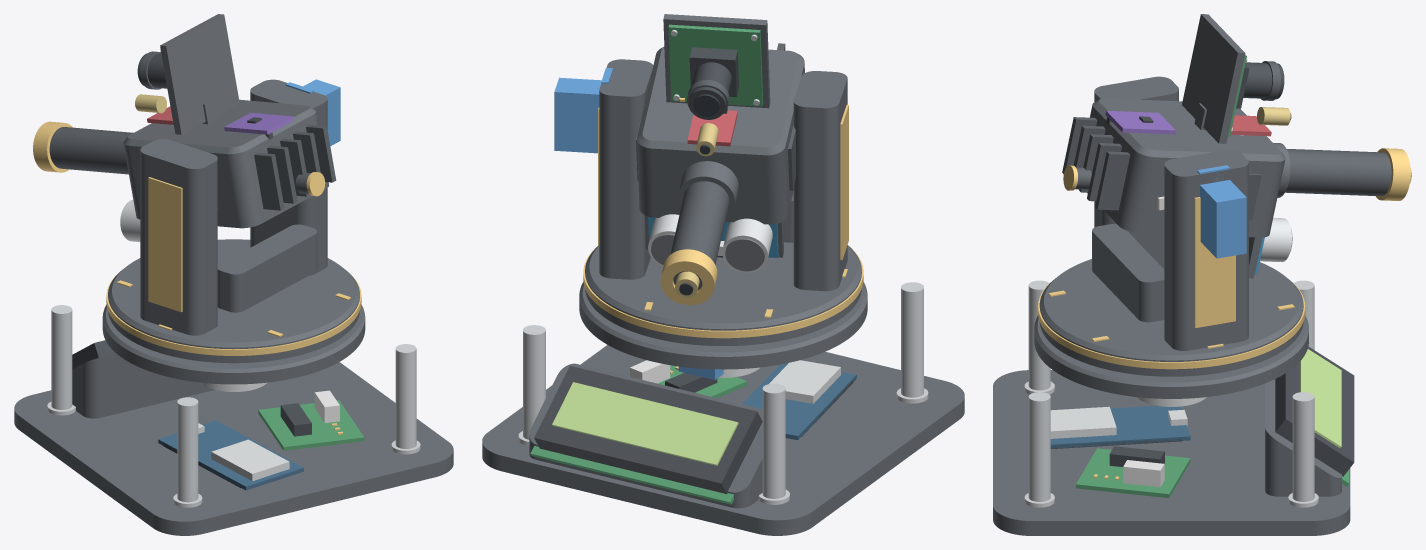
Rendered from torreta_v2.glb.
3 renders of one model, left to right at view 1: azimuth 30°, elevation 25°; view 2: azimuth 150°, elevation 25°; view 3: azimuth 270°, elevation 25°, orthographic. The views are drawn at different scales.
Visible parts, largest first — view 1: =>[0:1:1:4], =>[0:1:1:70], =>[0:1:1:86], =>[0:1:1:114], =>[0:1:1:146], =>[0:1:1:22], =>[0:1:1:94], =>[0:1:1:60], =>[0:1:1:88], =>[0:1:1:90], =>[0:1:1:124], =>[0:1:1:46] (+20 smaller); view 2: =>[0:1:1:4], =>[0:1:1:114], =>[0:1:1:70], =>[0:1:1:86], =>[0:1:1:64], =>[0:1:1:90], =>[0:1:1:66], =>[0:1:1:22], =>[0:1:1:150], =>[0:1:1:60], =>[0:1:1:124], =>[0:1:1:96] (+20 smaller); view 3: =>[0:1:1:4], =>[0:1:1:70], =>[0:1:1:114], =>[0:1:1:90], =>[0:1:1:22], =>[0:1:1:146], =>[0:1:1:94], =>[0:1:1:124], =>[0:1:1:64], =>[0:1:1:92], =>[0:1:1:96], =>[0:1:1:60] (+23 smaller).
Boxes of the visible parts, x1,y1,x2,y2 form: =>[0:1:1:4]: (14,362,453,535); =>[0:1:1:70]: (108,239,359,363); =>[0:1:1:86]: (140,139,217,335); =>[0:1:1:114]: (123,99,328,228); =>[0:1:1:146]: (160,14,239,134); =>[0:1:1:22]: (102,304,365,384); =>[0:1:1:94]: (217,224,317,312); =>[0:1:1:60]: (72,353,214,418); =>[0:1:1:88]: (148,177,182,312); =>[0:1:1:90]: (250,79,327,275); =>[0:1:1:124]: (49,127,133,174); =>[0:1:1:46]: (258,400,364,450); =>[0:1:1:4]: (482,345,964,535); =>[0:1:1:114]: (637,46,804,224); =>[0:1:1:70]: (585,242,861,345); =>[0:1:1:86]: (793,71,847,291); =>[0:1:1:64]: (534,366,762,493); =>[0:1:1:90]: (599,59,653,279); =>[0:1:1:66]: (552,382,738,465); =>[0:1:1:22]: (579,282,867,369); =>[0:1:1:150]: (668,24,763,106); =>[0:1:1:60]: (529,363,762,508); =>[0:1:1:124]: (670,181,729,290); =>[0:1:1:96]: (554,77,601,153); =>[0:1:1:4]: (993,370,1350,535); =>[0:1:1:70]: (1039,259,1303,376); =>[0:1:1:114]: (1087,98,1285,237); =>[0:1:1:90]: (1164,150,1248,350); =>[0:1:1:22]: (1034,315,1308,398); =>[0:1:1:146]: (1182,14,1245,143); =>[0:1:1:94]: (1092,224,1164,322); =>[0:1:1:124]: (1285,149,1391,196); =>[0:1:1:64]: (1275,346,1354,476); =>[0:1:1:92]: (1194,197,1235,327); =>[0:1:1:96]: (1200,180,1246,258); =>[0:1:1:60]: (1265,379,1341,496).
Bounding box in the file's own units: 0.13 × 0.1694 × 0.1524.
